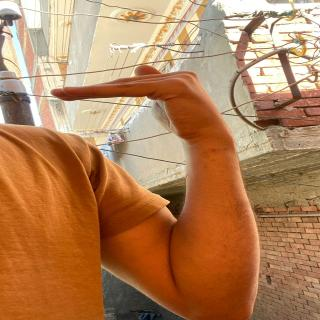KHAA: (41, 54, 224, 138)
